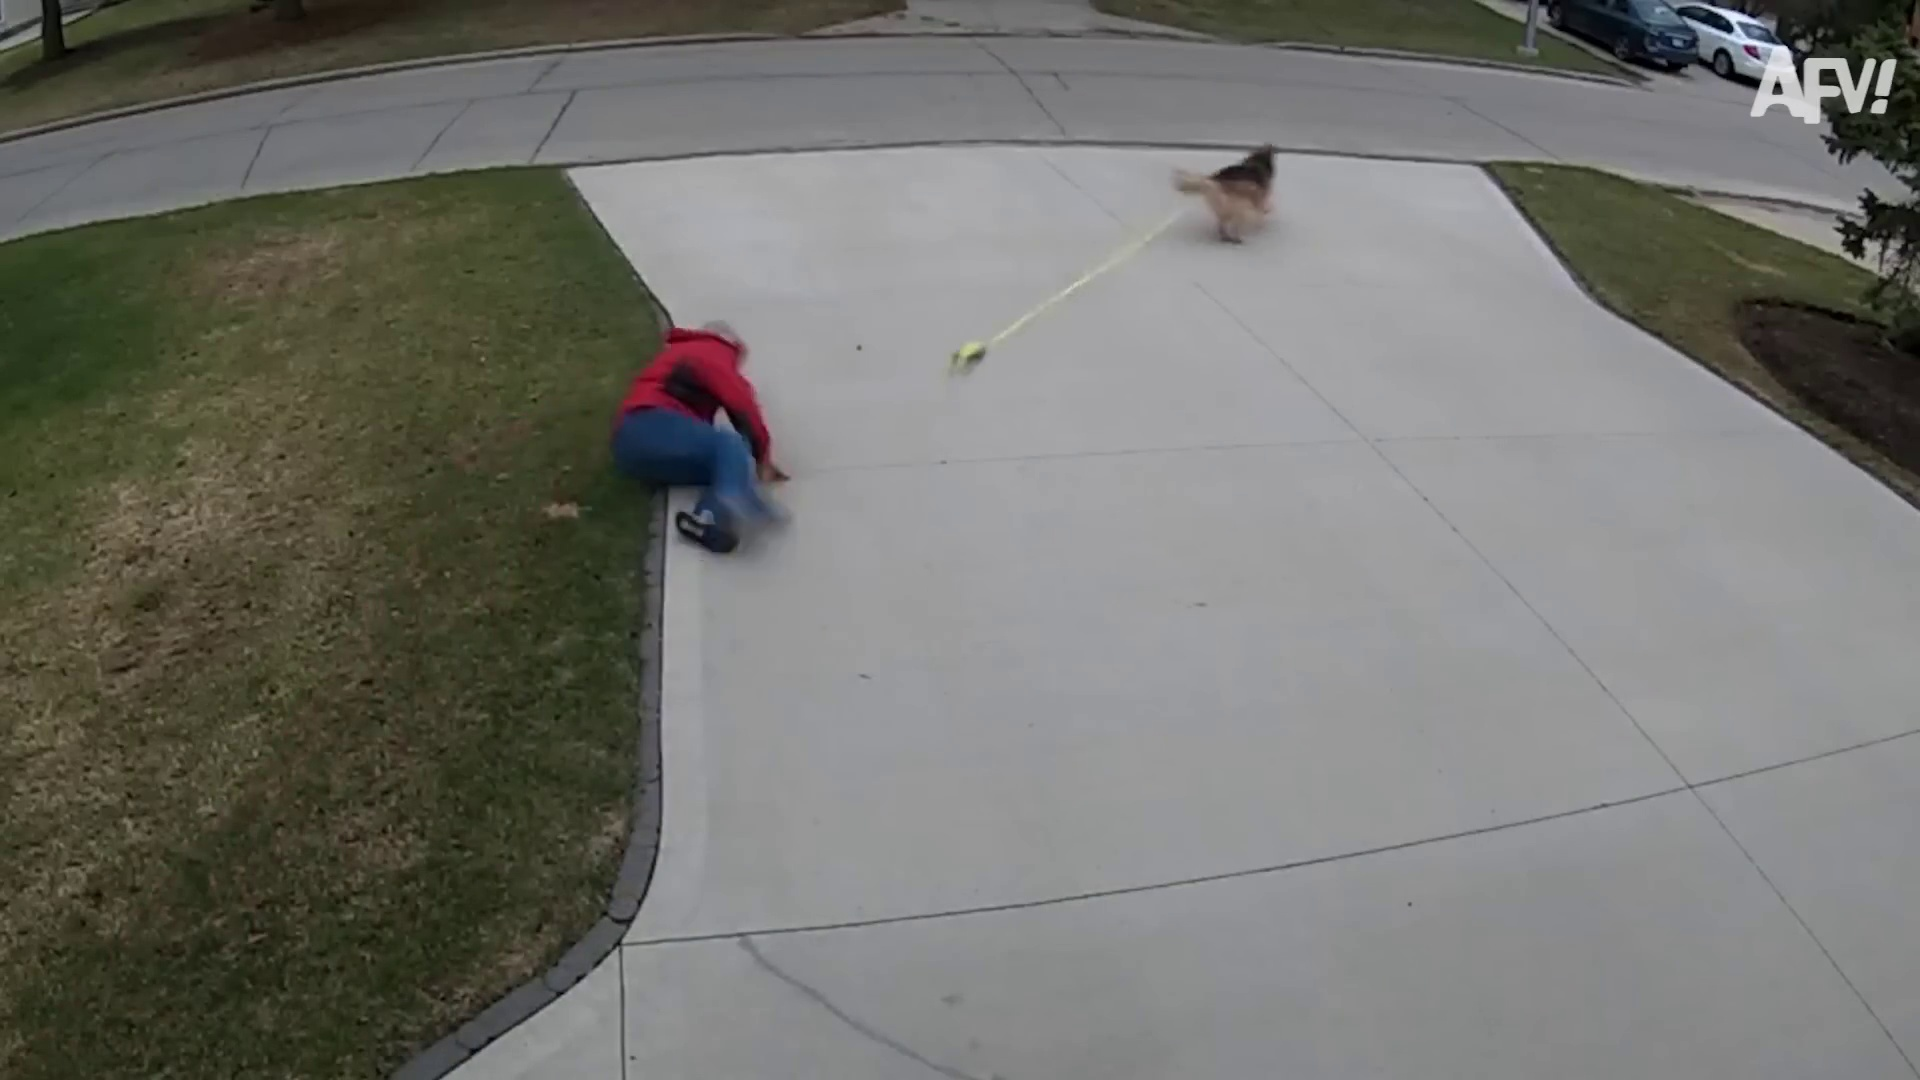fall: (579, 228, 891, 719)
